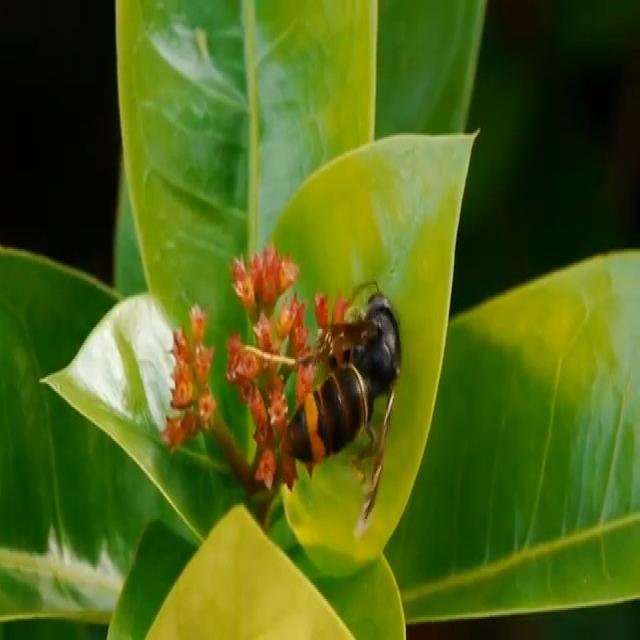Hornets: (249, 276, 403, 546)
